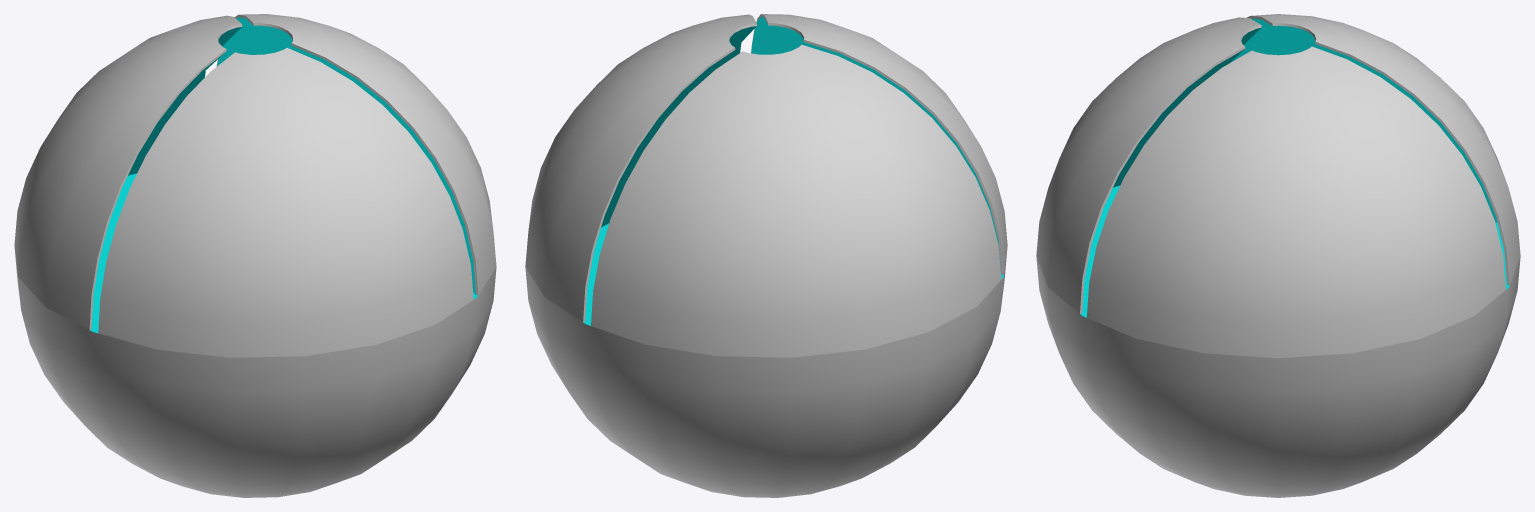
Rendered from Balll.fbx.
3 views of the same model, side by side, from view 1: azimuth 30°, elevation 25°; view 2: azimuth 150°, elevation 25°; view 3: azimuth 270°, elevation 25° (orthographic).
Parts seen in each view (by area): view 1: B1, ballBase, B2, B3; view 2: B2, ballBase, B3, B1; view 3: B3, ballBase, B1, B2.
Boxes of the visible parts, left/top/right/bottom form: B1: left=98, top=48, right=473, bottom=357; ballBase: left=14, top=173, right=496, bottom=497; B2: left=14, top=15, right=242, bottom=329; B3: left=216, top=14, right=496, bottom=295; B2: left=591, top=44, right=1001, bottom=357; ballBase: left=525, top=223, right=1007, bottom=497; B3: left=525, top=14, right=756, bottom=322; B1: left=751, top=14, right=1007, bottom=274; B3: left=1086, top=46, right=1505, bottom=358; ballBase: left=1036, top=185, right=1520, bottom=497; B1: left=1036, top=17, right=1261, bottom=313; B2: left=1231, top=14, right=1520, bottom=284.
Size of the model in its own units: 5.59 by 5.55 by 5.59.
